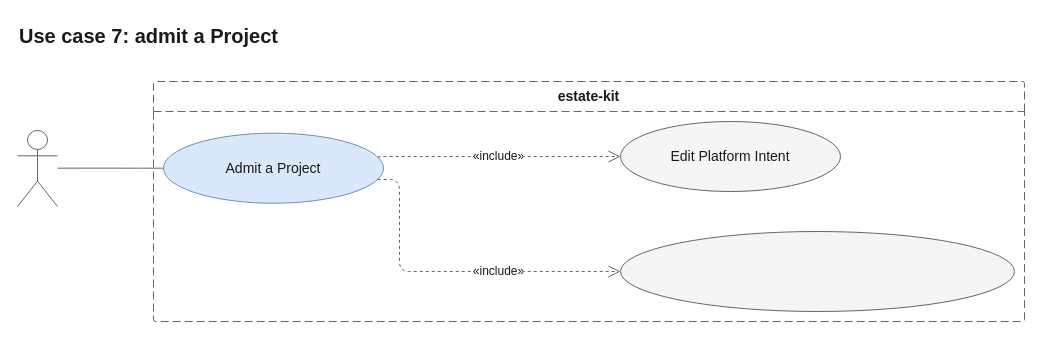
Some shapes in this 1042 by 339 pixel diagram are drawn without their labels. Here are the shapes that lost their labels. From the top down, the box of each, then its label:
(16, 130, 58, 206): Admin
(620, 230, 1014, 312): Create the namespace and Flux source in the platform render
